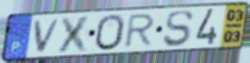4: (195, 8, 218, 47)
O: (94, 13, 127, 51)
R: (122, 12, 157, 50)
S: (161, 9, 195, 49)
V: (32, 18, 63, 55)
X: (55, 14, 94, 54)
